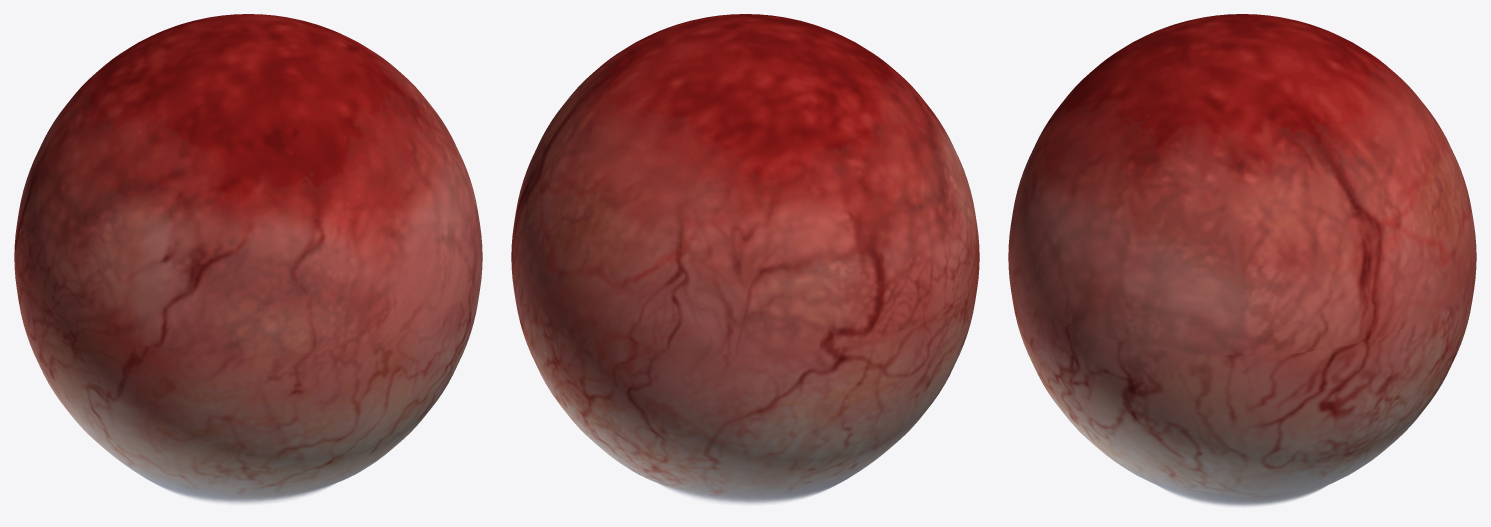
The model's file is eye.glb.
3 renders of one model, left to right at view 1: azimuth 30°, elevation 25°; view 2: azimuth 150°, elevation 25°; view 3: azimuth 270°, elevation 25°, orthographic.
Visible parts, largest first — view 1: MeshSclera; view 2: MeshSclera; view 3: MeshSclera.
Part boxes in pixels (bbox=[...]): MeshSclera: bbox=[14, 14, 482, 503]; MeshSclera: bbox=[511, 14, 979, 504]; MeshSclera: bbox=[1008, 14, 1476, 506].
Bounding box in the file's own units: 229 × 251 × 229.
Materials: 2 (2 with a texture image).
